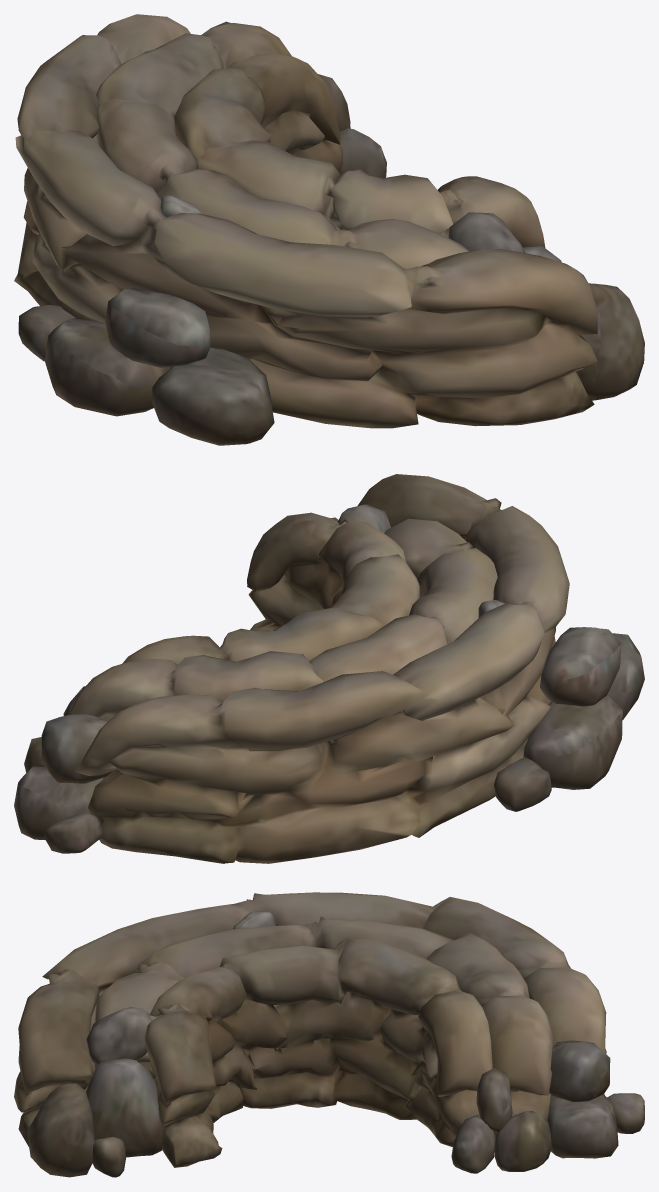
File: SM_Step_c1ec16.glb
3 views of the same model, one above another, from view 1: azimuth 30°, elevation 25°; view 2: azimuth 150°, elevation 25°; view 3: azimuth 270°, elevation 25° (orthographic). The views are drawn at different scales.
Size of the model in its own units: 1.65 by 0.6708 by 2.47.
Materials: 1 (1 with a texture image).
